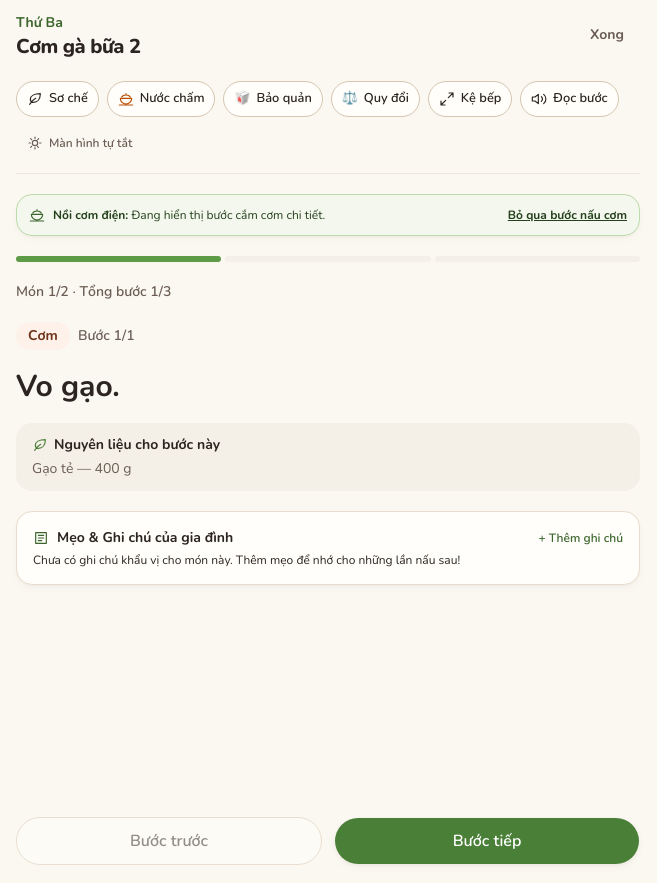
CookingPage › manages family cooking notes saved in localStorage
expect the text "Vo gạo." is shown: met, box [16,366,120,407]
expect the heading "Mẹo & Ghi chú của gia đình" is shown: met, box [57,528,233,548]
Click the button "+ Thêm ghi chú": (581, 538) [538,530,623,546]
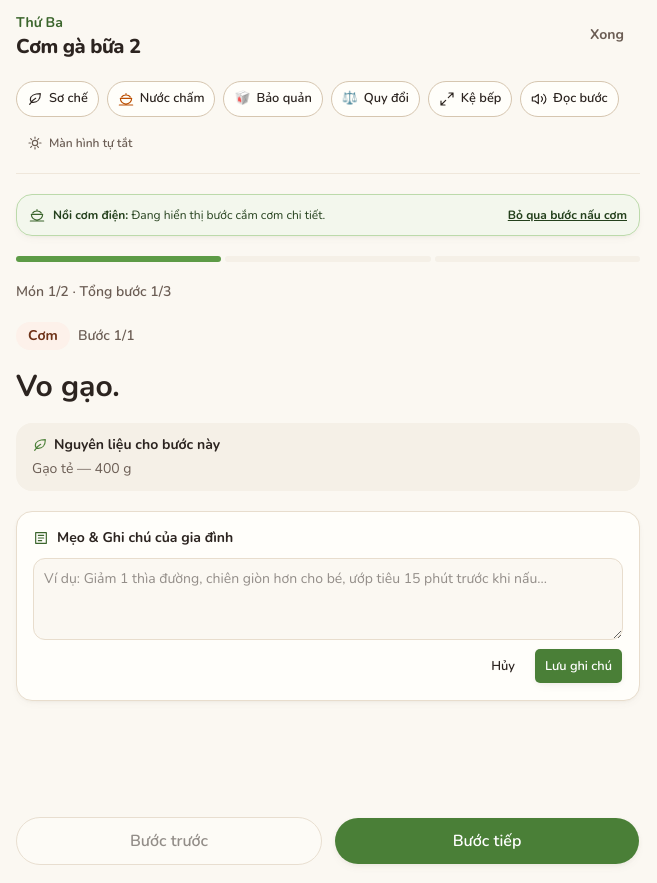
In the text box with placeholder "Giảm 1 thìa đường": (328, 599) [33,558,623,640], type "Nấu cơm ráo nước, cho thêm chút dầu mè"
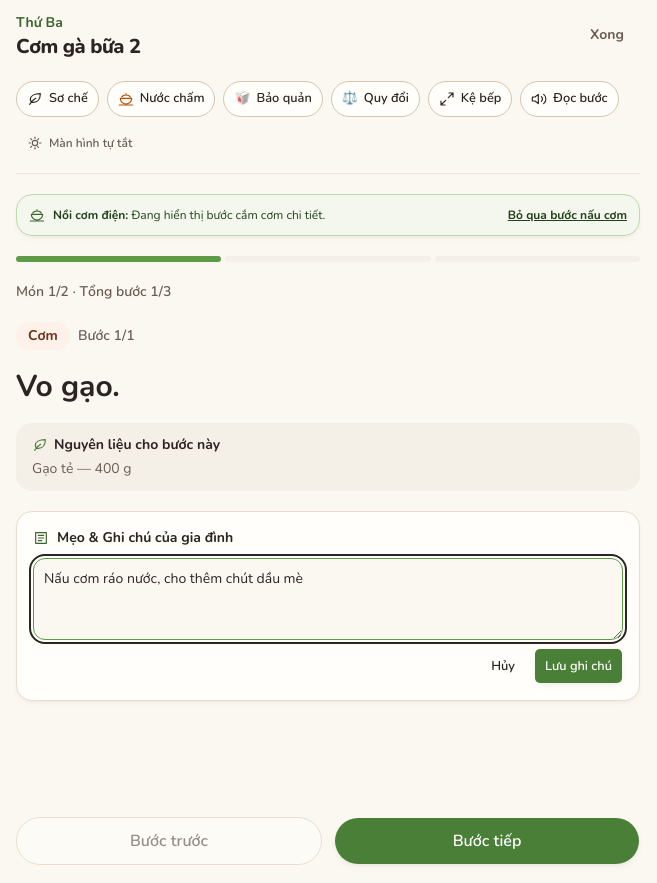
Click the button "Lưu ghi chú": (578, 666) [534,648,623,684]
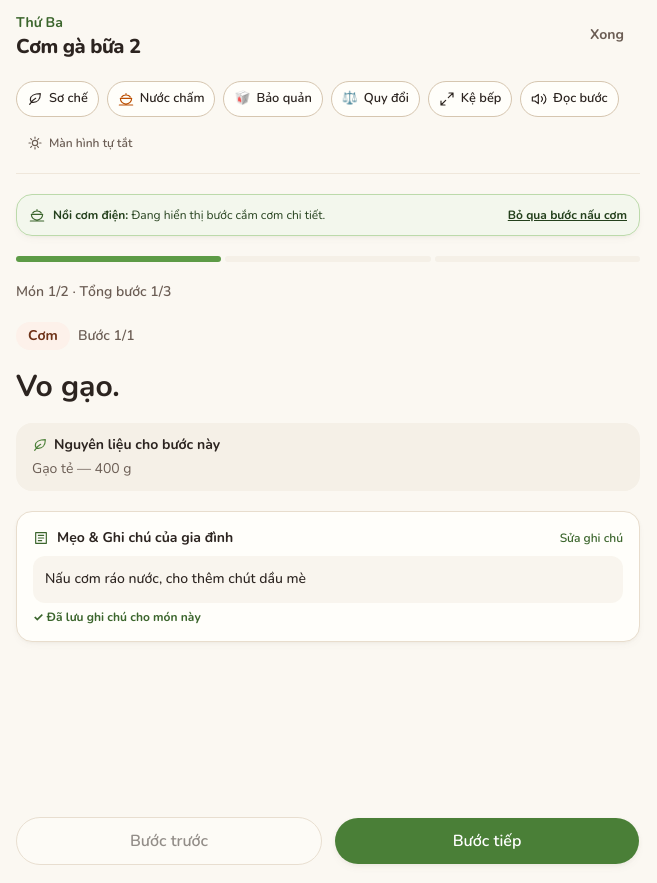
expect the text "Nấu cơm ráo nước, cho thêm chút dầu mè" is shown: met, box [45,569,306,588]
expect the button "Sửa ghi chú" is shown: met, box [560,530,623,546]
